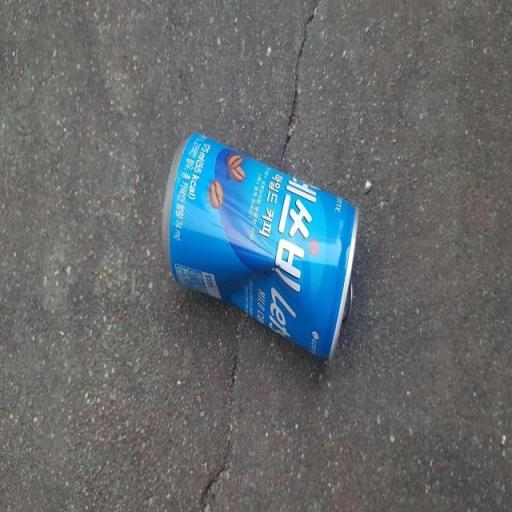metal: (136, 110, 374, 389)
